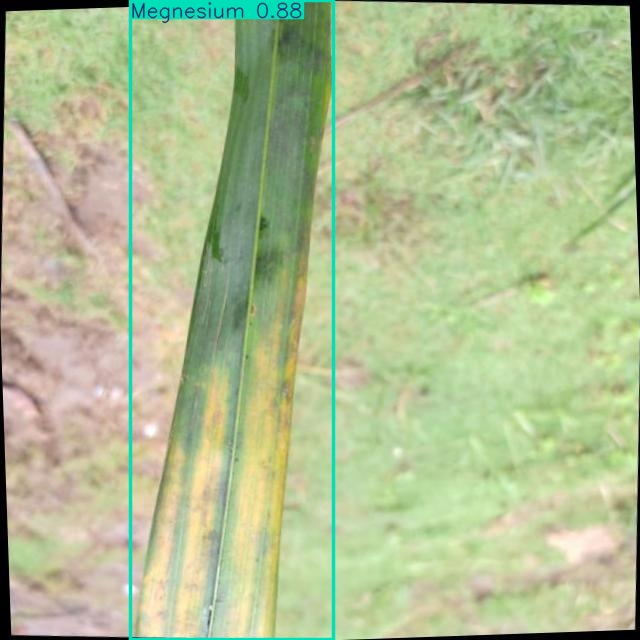Megnesium: (130, 1, 333, 640)
